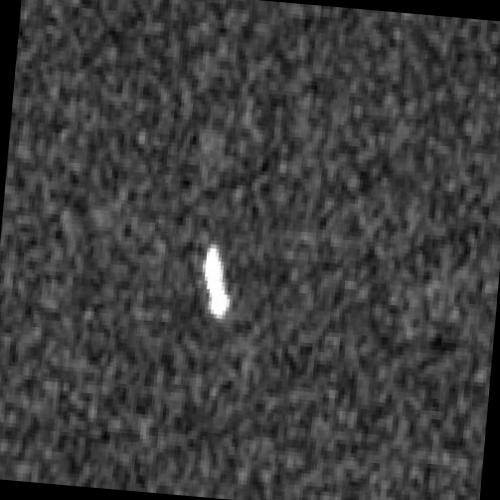ship: (201, 241, 231, 321)
